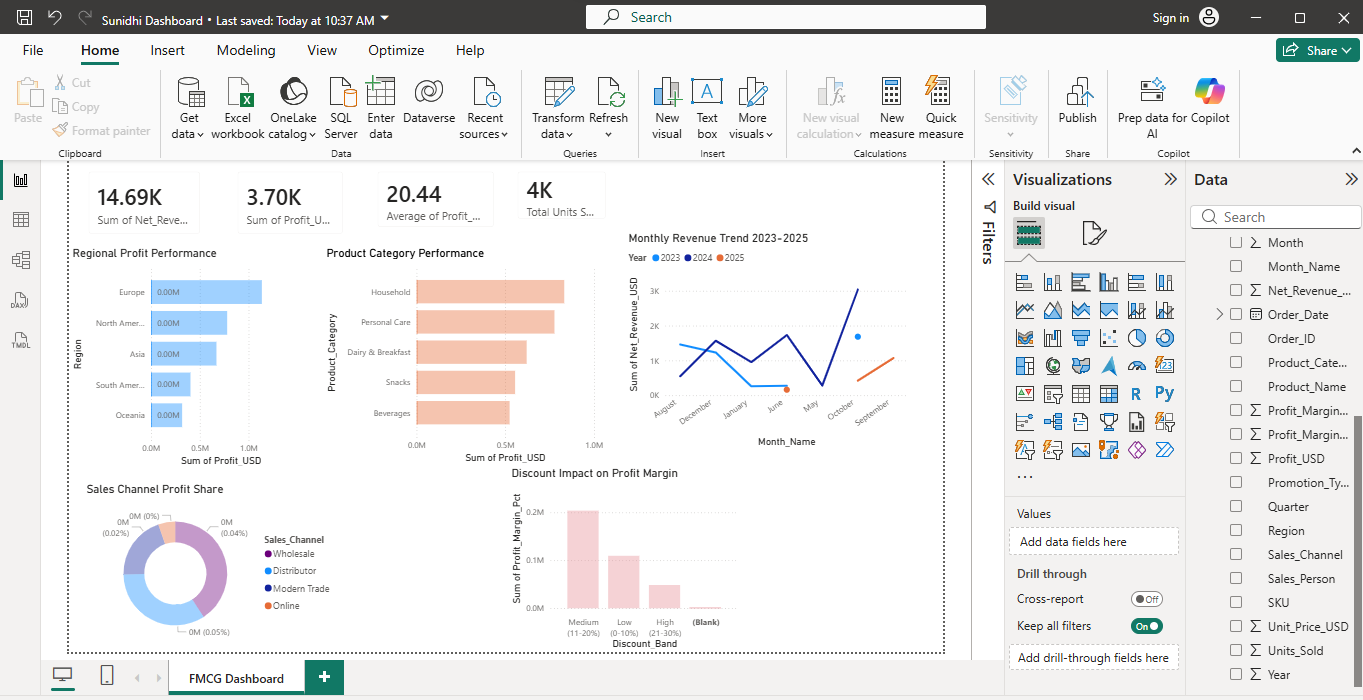

What the dashboard file says about the page in this screenshot:
{"tool":"powerbi","page":{"name":"FMCG Dashboard","canvas":[1280,720],"ordinal":0},"visuals":[{"type":"cardVisual","fields":{"Data":["Sum(FMCG Datasets.Net_Revenue_USD)"]},"box":[11.7,0,197.6,125.9],"z":0},{"type":"cardVisual","fields":{"Data":["Sum(FMCG Datasets.Profit_USD)"]},"box":[229.8,0,188.8,125.9],"z":1000},{"type":"cardVisual","fields":{"Data":["Avg(FMCG Datasets.Profit_Margin_Pct)"]},"box":[434.6,0,204.9,115.6],"z":2000},{"type":"cardVisual","fields":{"Data":["Sum(FMCG Datasets.Units_Sold)"]},"box":[639.5,0,163.9,103.9],"z":3000},{"type":"clusteredBarChart","title":"Regional Profit Performance","fields":{"Category":["FMCG Datasets.Region"],"Y":["Sum(FMCG Datasets.Profit_USD)"]},"box":[0,125.9,343.9,326.3],"z":4000},{"type":"clusteredBarChart","title":"Product Category Performance","fields":{"Category":["FMCG Datasets.Product_Category"],"Y":["Sum(FMCG Datasets.Profit_USD)"]},"box":[371.7,125.9,415.6,322],"z":5000},{"type":"lineChart","title":"Monthly Revenue Trend 2023-2025","fields":{"Category":["FMCG Datasets.Month_Name"],"Y":["Sum(FMCG Datasets.Net_Revenue_USD)"],"Series":["FMCG Datasets.Year"]},"box":[813.7,103.9,418.5,322],"z":6000},{"type":"donutChart","title":"Sales Channel Profit Share","fields":{"Category":["FMCG Datasets.Sales_Channel"],"Y":["Sum(FMCG Datasets.Profit_USD)"]},"box":[20.5,471.2,376.1,248.8],"z":6001},{"type":"clusteredColumnChart","title":"Discount Impact on Profit Margin","fields":{"Category":["FMCG Datasets.Discount_Band"],"Y":["Sum(FMCG Datasets.Profit_Margin_Pct)"]},"box":[642.4,447.8,342.4,272.2],"z":6002}]}

Visuals, with their boxes on the page's 1280x720 design canvas (x1, y1, x2, y2). These are canvas units, not pixel positions in the 1363x700 screenshot, which may show the page scaled, cropped or inside an application window:
cardVisual - Sum(FMCG Datasets.Net_Revenue_USD): x1=12 y1=0 x2=209 y2=126
cardVisual - Sum(FMCG Datasets.Profit_USD): x1=230 y1=0 x2=419 y2=126
cardVisual - Avg(FMCG Datasets.Profit_Margin_Pct): x1=435 y1=0 x2=640 y2=116
cardVisual - Sum(FMCG Datasets.Units_Sold): x1=640 y1=0 x2=803 y2=104
"Regional Profit Performance" clusteredBarChart: x1=0 y1=126 x2=344 y2=452
"Product Category Performance" clusteredBarChart: x1=372 y1=126 x2=787 y2=448
"Monthly Revenue Trend 2023-2025" lineChart: x1=814 y1=104 x2=1232 y2=426
"Sales Channel Profit Share" donutChart: x1=20 y1=471 x2=397 y2=720
"Discount Impact on Profit Margin" clusteredColumnChart: x1=642 y1=448 x2=985 y2=720
